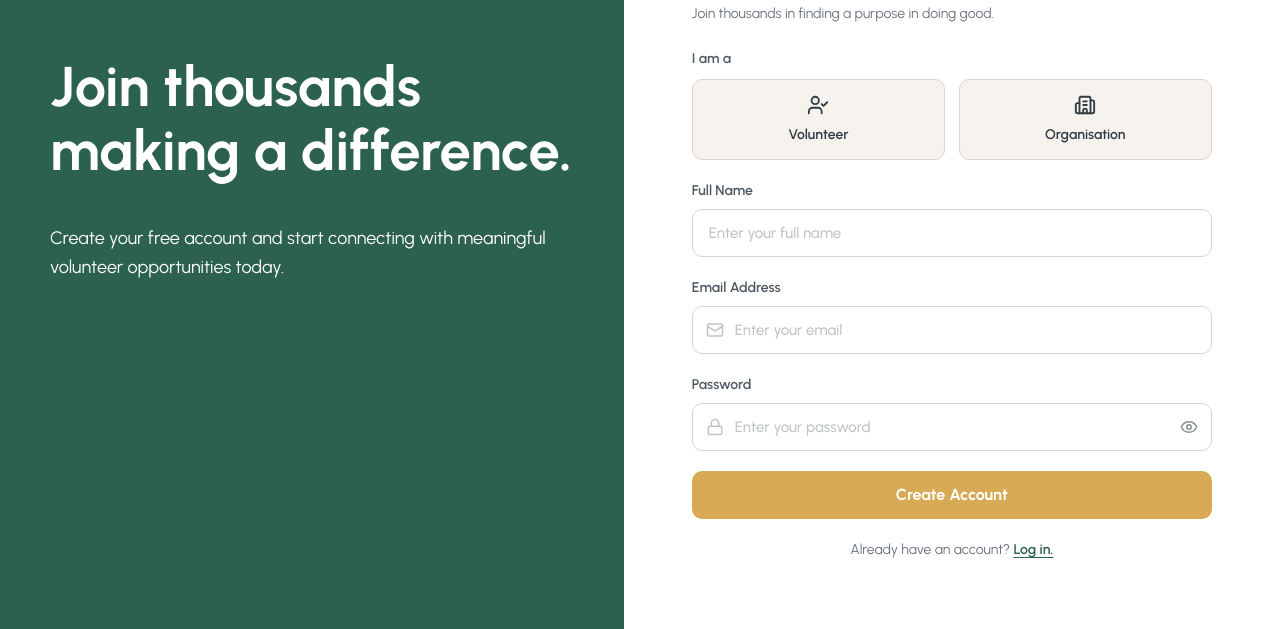
Test case: login and signup forms › requires the Volunteer age group and resume
Click the button "Volunteer": (818, 120) 692,79 -> 945,160
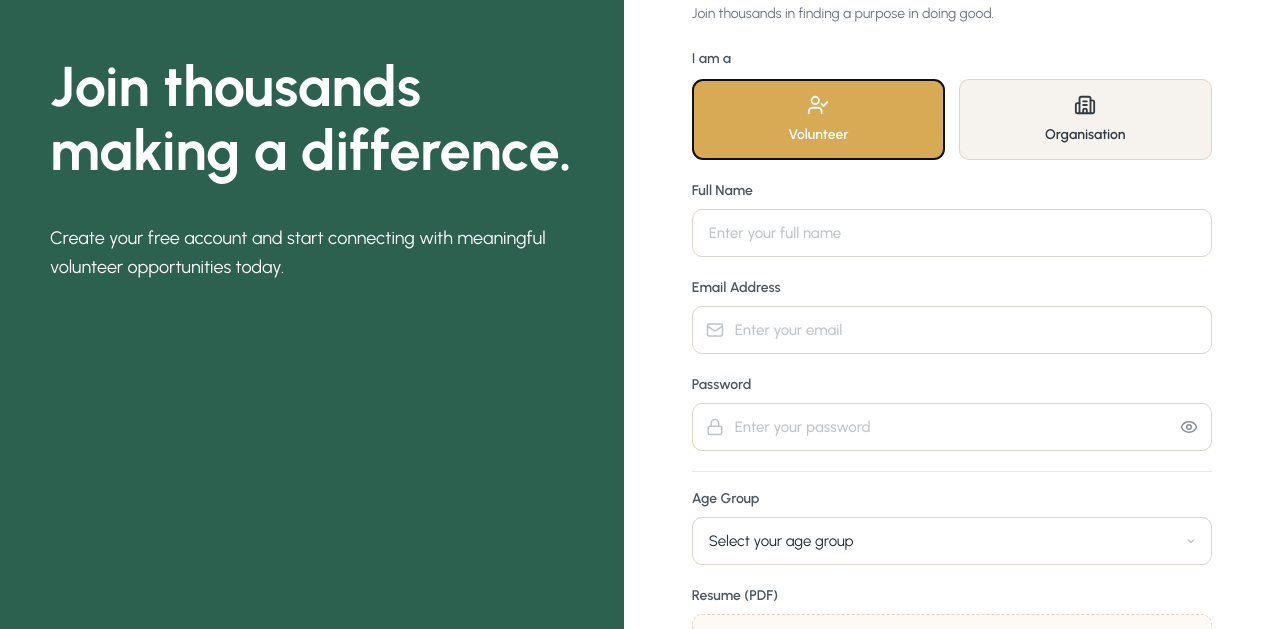
In the field with placeholder "Enter your full name": (952, 233) 692,209 -> 1212,257, type "Alex Tan"
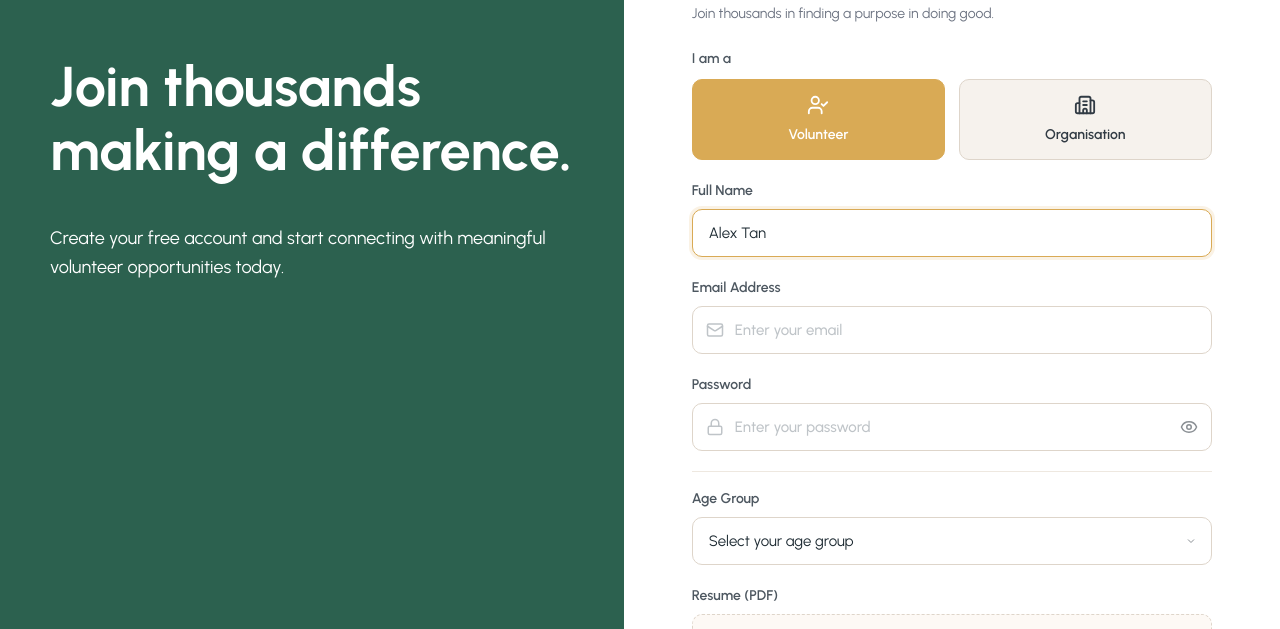
In the field with placeholder "Enter your email": (952, 330) 692,306 -> 1212,354, type "alex@example.com"
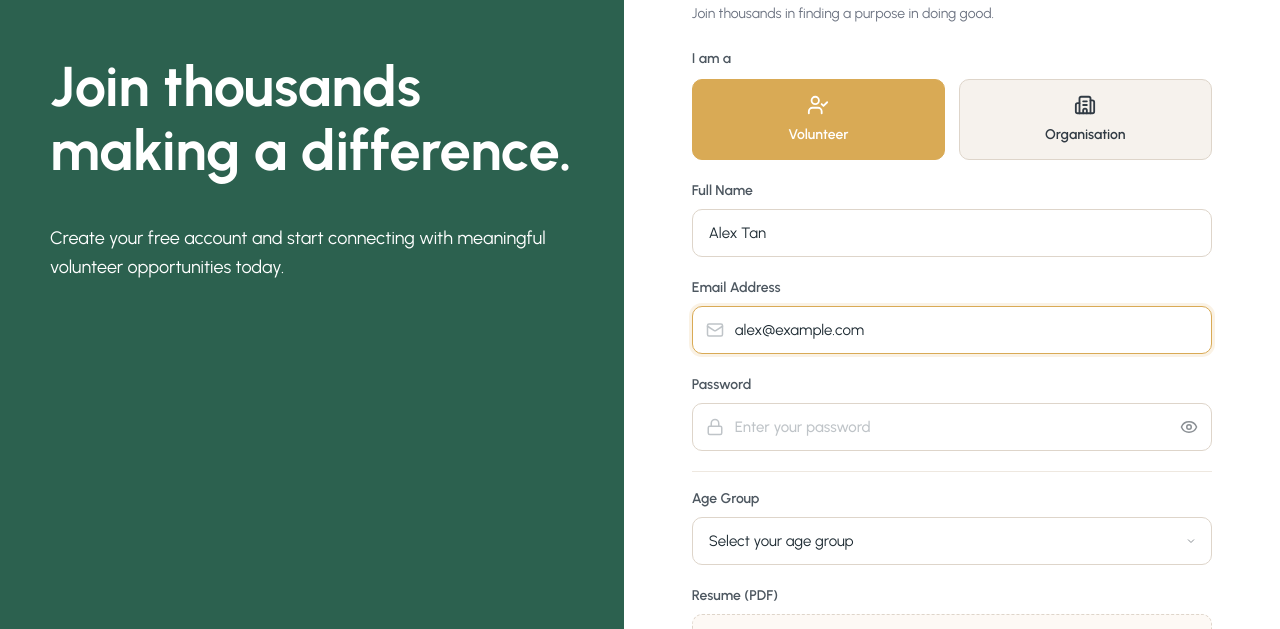
In the password field with placeholder "Enter your password": (952, 427) 692,403 -> 1212,451, type "StrongPass1"
(page scrolled)
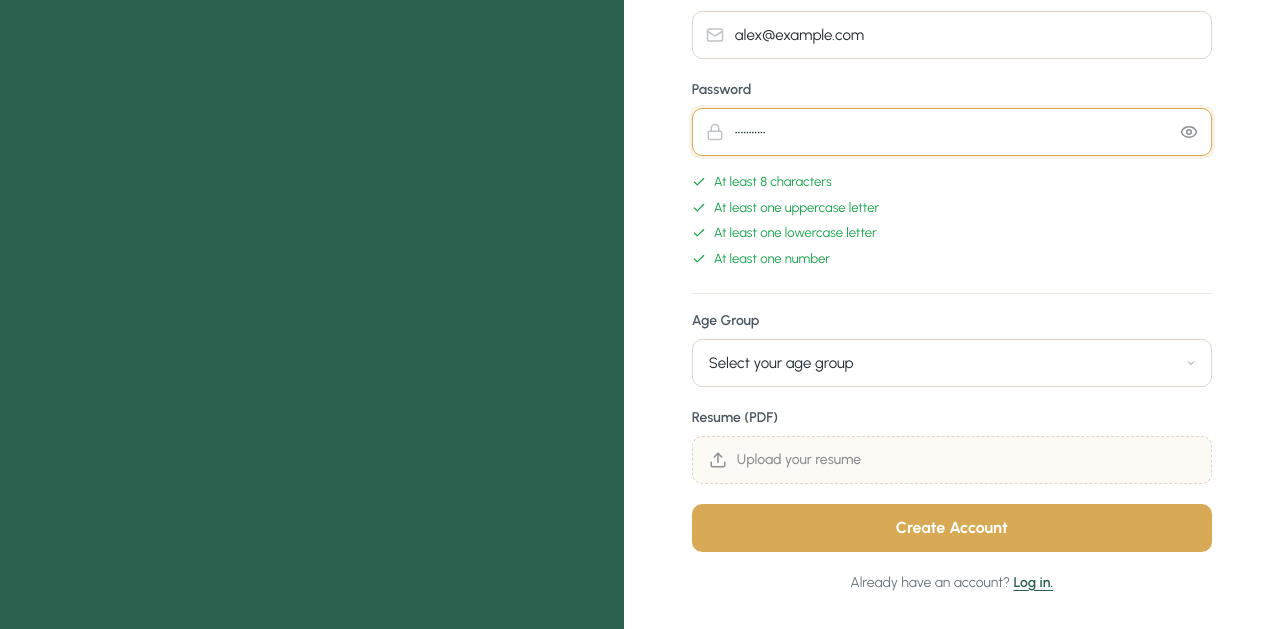
Click the button "Create Account": (952, 528) 692,504 -> 1212,552
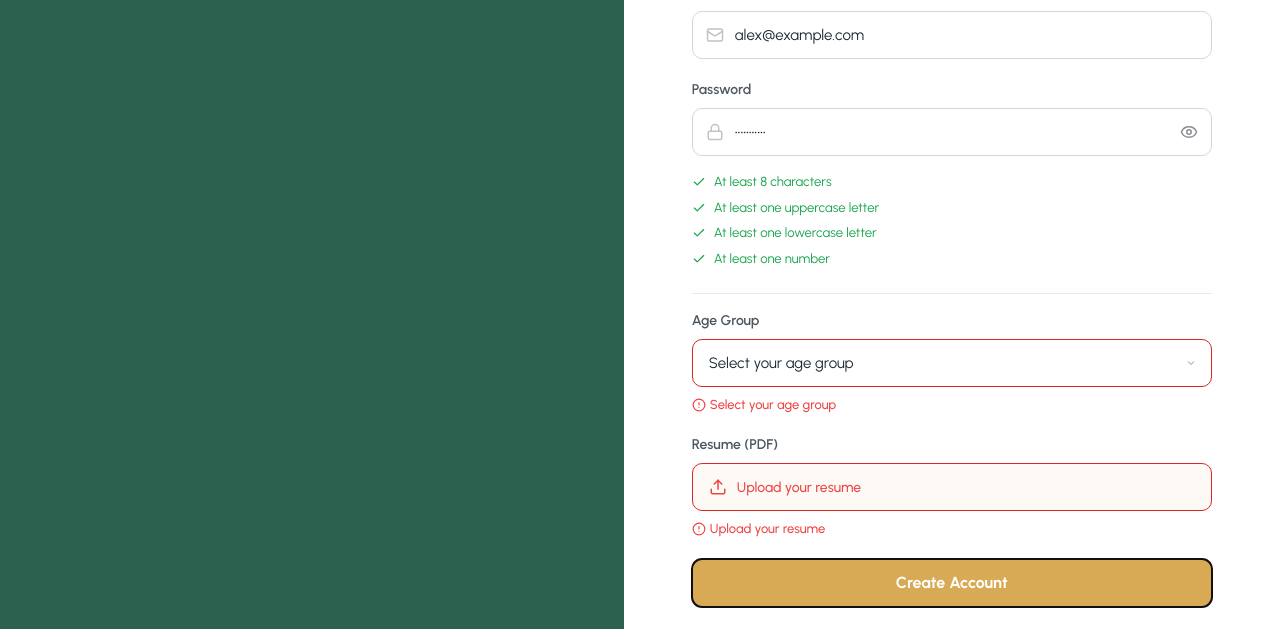
Check: the text "Upload your resume" is shown 2 times, box 737,477 -> 861,498; 692,521 -> 825,536
Check: the text "Select your age group" is shown 2 times
